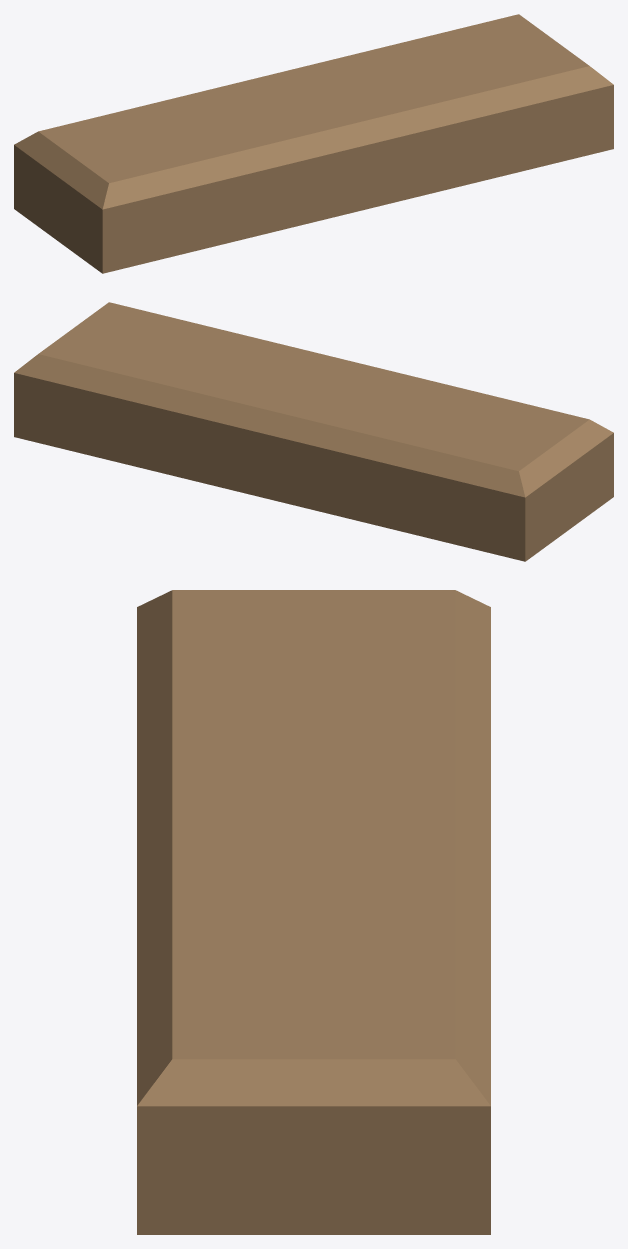
File: straight_trace.glb
3 renders of one model, top to bottom at view 1: azimuth 30°, elevation 25°; view 2: azimuth 150°, elevation 25°; view 3: azimuth 270°, elevation 25°, orthographic. The views are drawn at different scales.
Visible parts, largest first — view 1: straight_trace; view 2: straight_trace; view 3: straight_trace.
Part boxes in pixels (box(x1,y1,x2,y2)): straight_trace: box(14, 14, 613, 273); straight_trace: box(14, 302, 613, 561); straight_trace: box(137, 590, 490, 1234).
Size of the model in its own units: 1 by 0.15 by 0.3.
